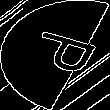P_E: (12, 28, 98, 82)
